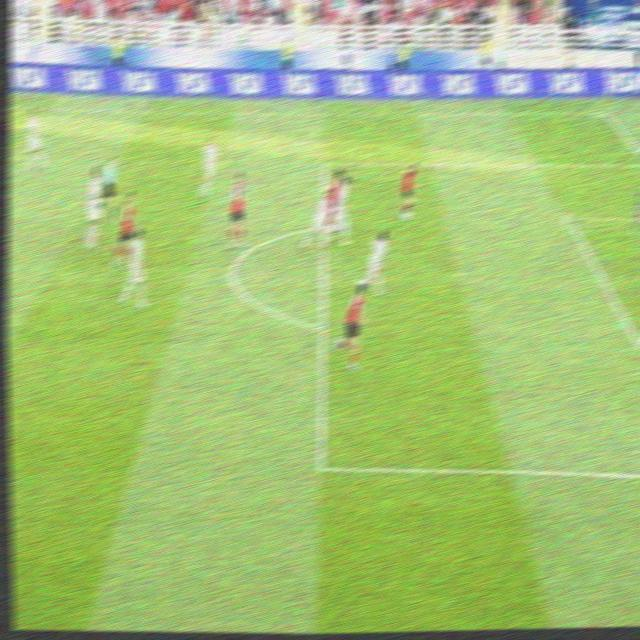bigarea_bottom_inner: (311, 452, 329, 479)
bigarea_top_inner: (315, 154, 337, 174)
bigarea_top_outter: (638, 156, 640, 166)
bottom_arc_area_intersection: (312, 318, 330, 339)
corner: (598, 107, 611, 115)
smallarea_bottom_inner: (630, 334, 640, 358)
smallarea_top_inner: (560, 211, 577, 228)
